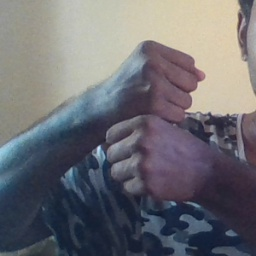G: (102, 31, 209, 200)
